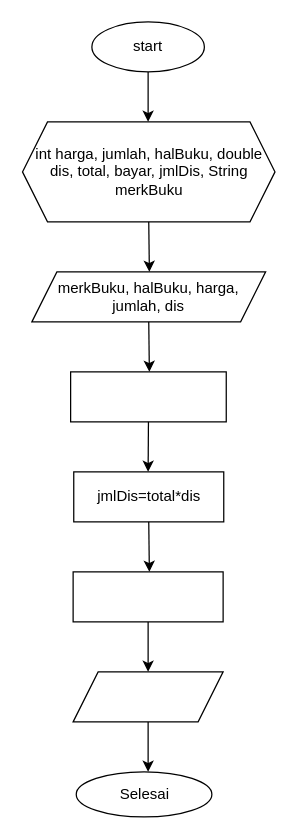
Image size: 296x839. Some labels were removed from this diagram. The box of each missing label's shape, as (x1, y1, x2, y2) in pixels:
bayar=total-jmlDis: (72, 571, 223, 622)
jmlDis bayar: (72, 671, 223, 722)
total=harga*jumlah: (69, 371, 226, 422)
